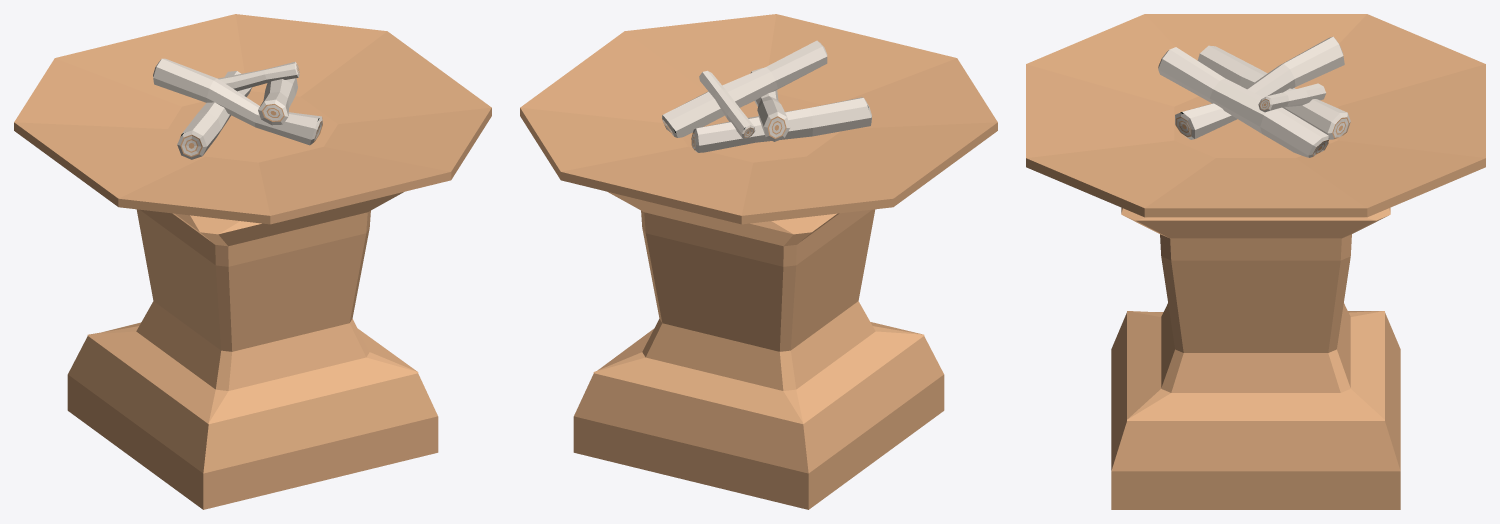
File: m_torch_mech.glb
3 renders of one model, left to right at view 1: azimuth 30°, elevation 25°; view 2: azimuth 150°, elevation 25°; view 3: azimuth 270°, elevation 25°, orthographic. The views are drawn at different scales.
Parts seen in each view (by area): view 1: M_TorchMech, M_TorchMechSticks; view 2: M_TorchMech, M_TorchMechSticks; view 3: M_TorchMech, M_TorchMechSticks.
Part boxes in pixels (x1=…): M_TorchMech: x1=14, y1=14, x2=491, y2=509; M_TorchMechSticks: x1=153, y1=58, x2=322, y2=159; M_TorchMech: x1=520, y1=14, x2=997, y2=509; M_TorchMechSticks: x1=662, y1=40, x2=871, y2=152; M_TorchMech: x1=1026, y1=14, x2=1485, y2=509; M_TorchMechSticks: x1=1158, y1=36, x2=1350, y2=157.
Bounding box in the file's own units: 0.8769 × 0.8214 × 0.8769.
1 material, 1 textured.
